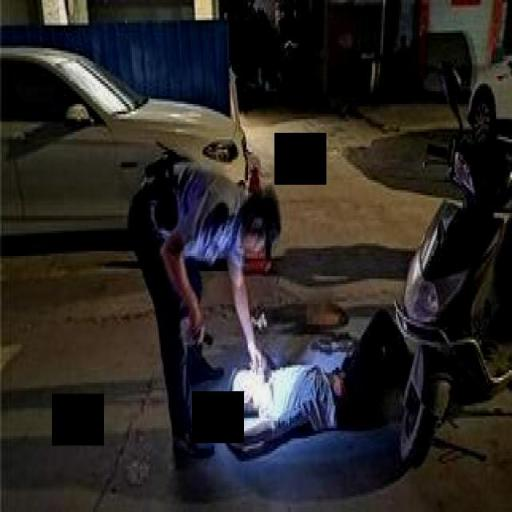Fall: (201, 300, 426, 467)
